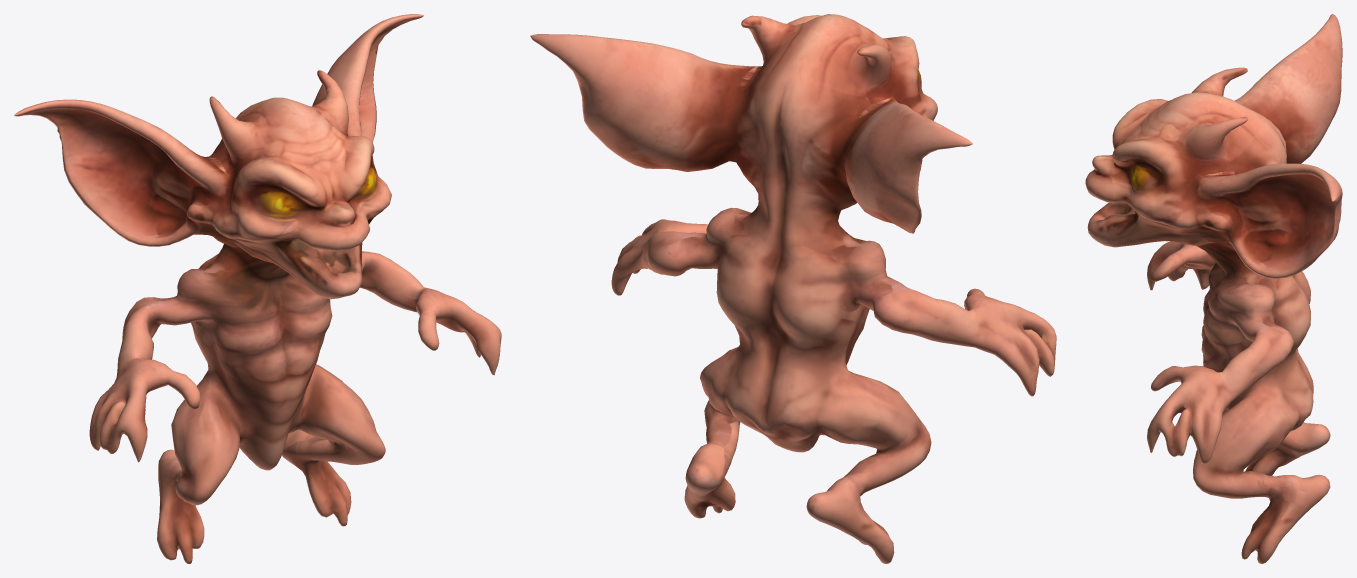
Rendered from imp.glb.
3 views of the same model, side by side, from view 1: azimuth 30°, elevation 25°; view 2: azimuth 150°, elevation 25°; view 3: azimuth 270°, elevation 25° (orthographic). The views are drawn at different scales.
Visible parts, largest first — view 1: imp-col; view 2: imp-col; view 3: imp-col.
Boxes of the visible parts, box(x1,y1,x2,y2) form: imp-col: box(14, 14, 501, 563); imp-col: box(530, 14, 1056, 563); imp-col: box(1085, 14, 1342, 563).
Bounding box in the file's own units: 1.73 × 1.86 × 1.01.
Materials: 1 (1 with a texture image).
